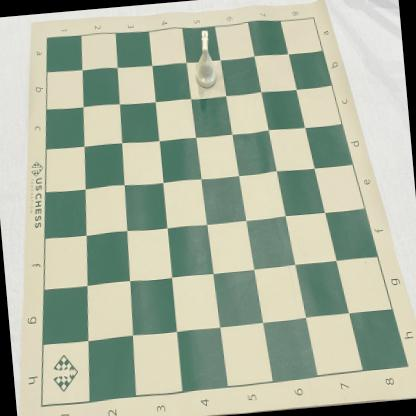knight: (191, 28, 219, 90)
